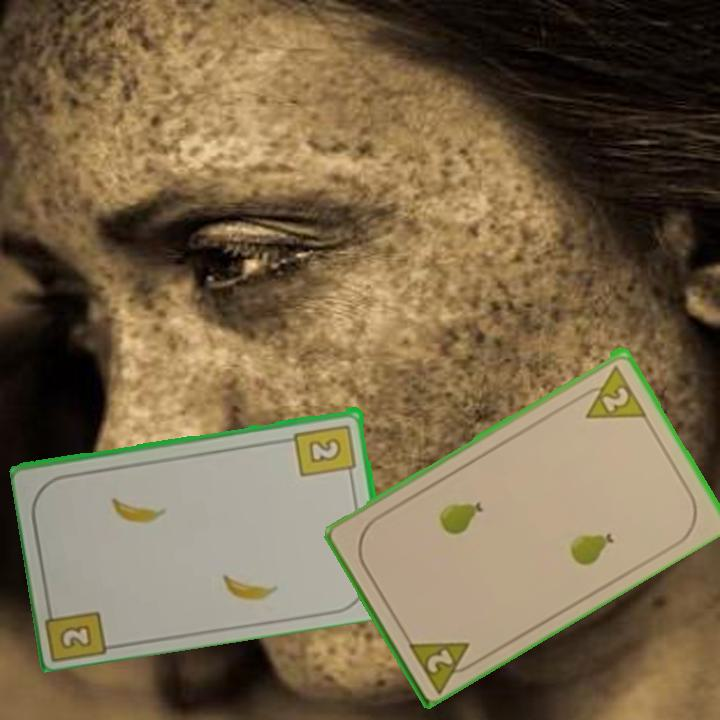2b: (43, 597, 112, 662), (292, 420, 359, 481)
2p: (573, 359, 649, 422), (423, 644, 457, 676)
